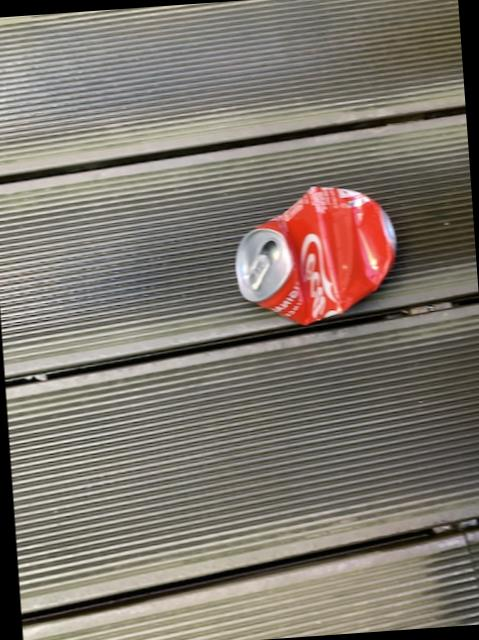metal: (236, 184, 396, 321)
